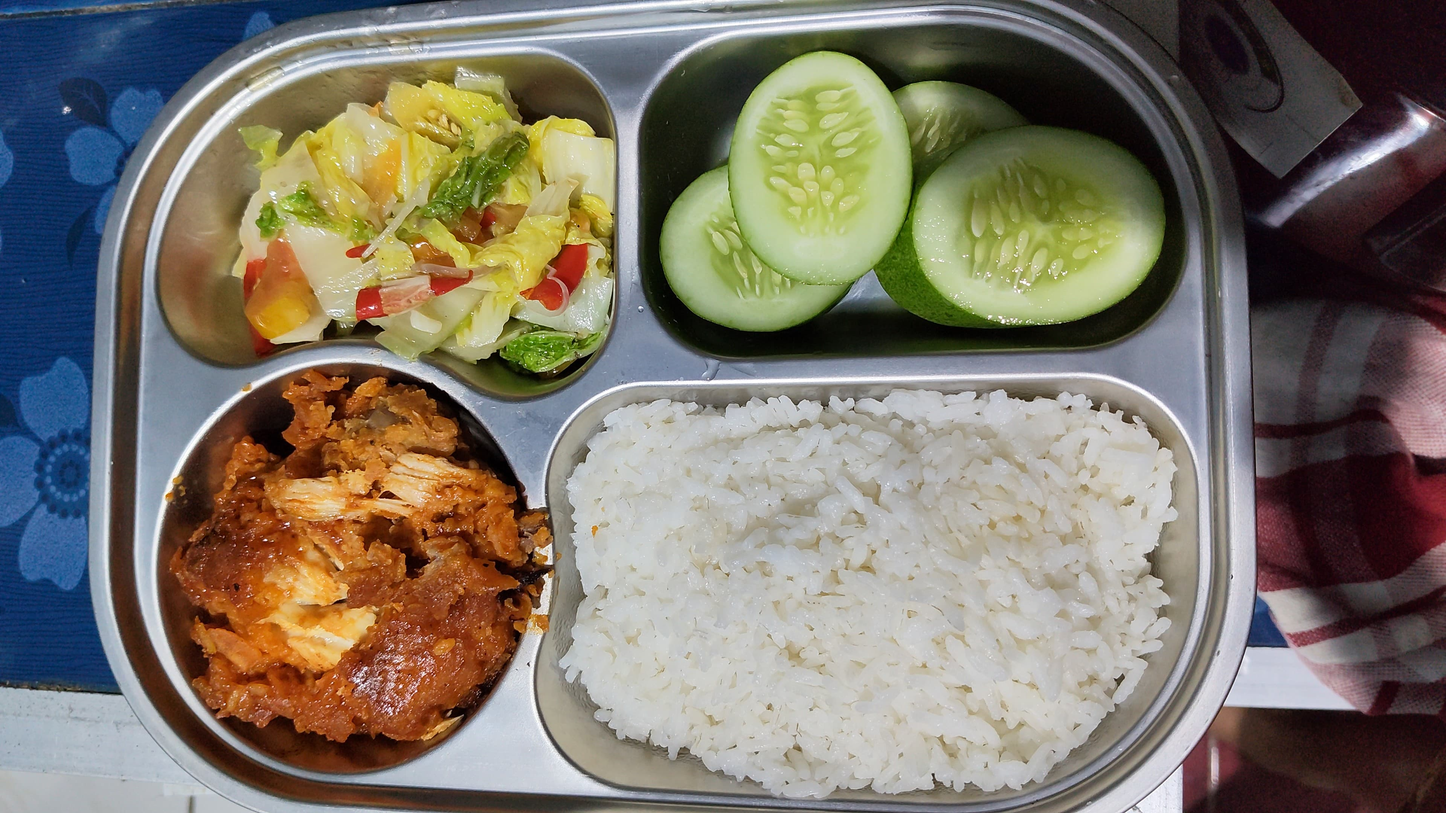buah_sayur_lainnya: (680, 75, 1128, 339), (233, 93, 608, 372)
daging: (170, 397, 496, 729)
makanan_berpati: (577, 424, 1146, 787)
